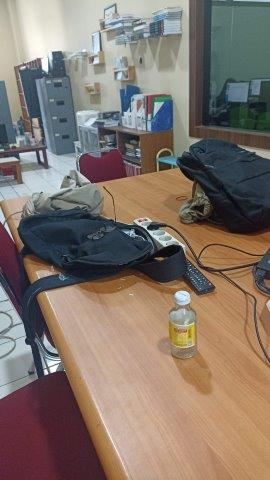botolkaca: (169, 290, 198, 360)
